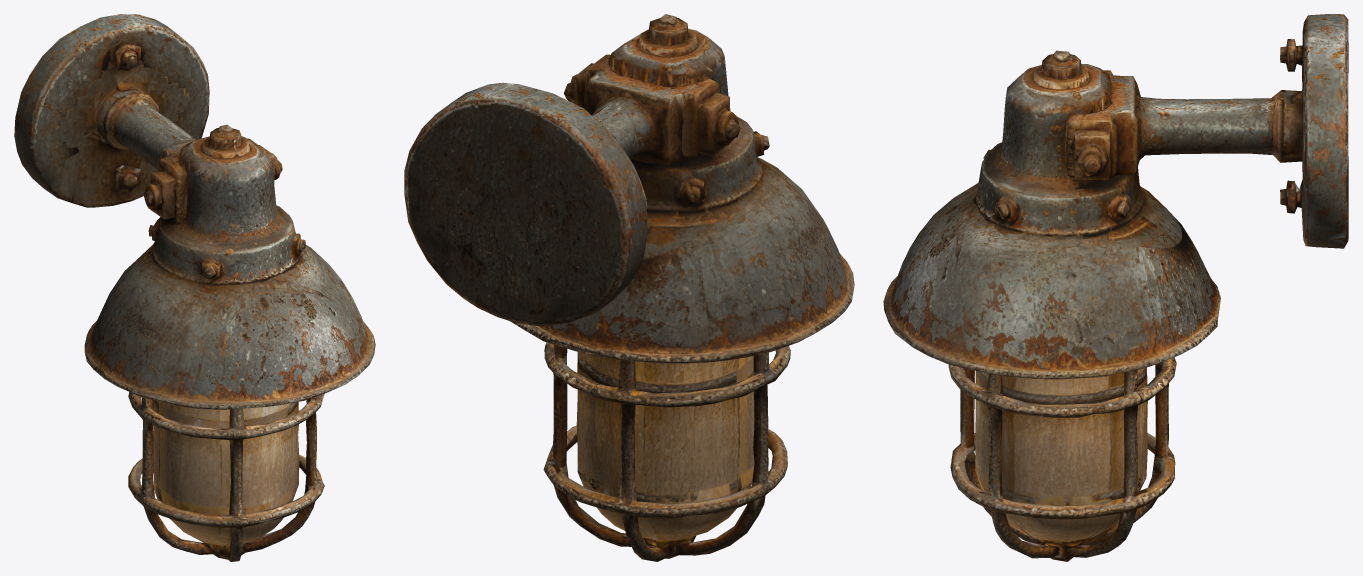
Rendered from BK_WallLamp.fbx.
3 renders of one model, left to right at view 1: azimuth 30°, elevation 25°; view 2: azimuth 150°, elevation 25°; view 3: azimuth 270°, elevation 25°, orthographic. The views are drawn at different scales.
Parts seen in each view (by area): view 1: texture_mapping; view 2: texture_mapping; view 3: texture_mapping.
Part boxes in pixels (x1,y1,x2,y2): texture_mapping: (14,14,375,561); texture_mapping: (404,14,854,561); texture_mapping: (883,14,1348,561).
Size of the model in its own units: 0.5825 by 0.7947 by 1.
Materials: 1 (1 with a texture image).
